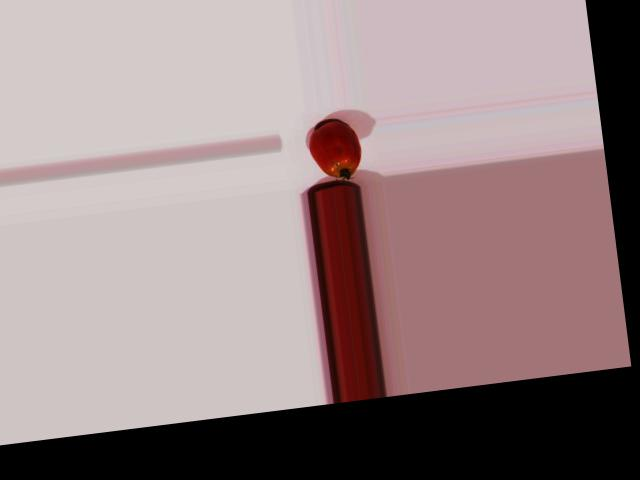tomato: (306, 119, 363, 181)
